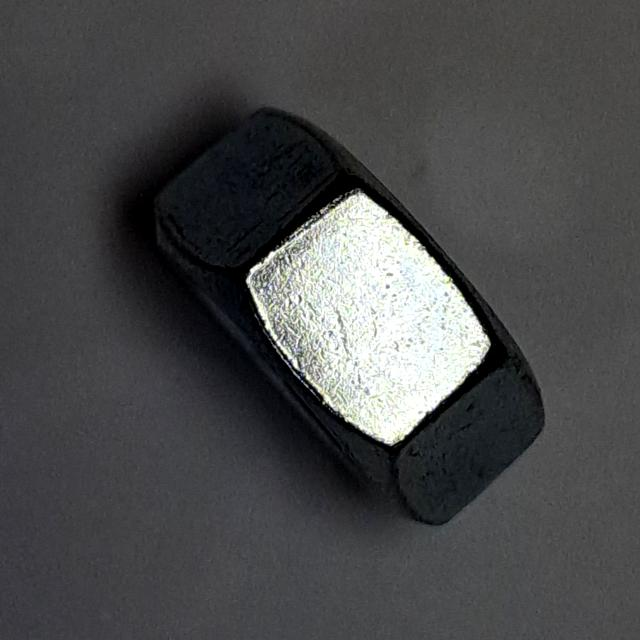Side_Excellent: (141, 100, 575, 547)
